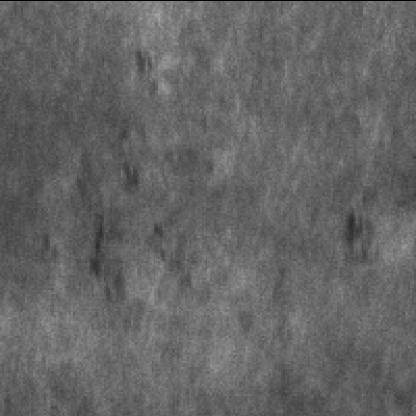rolled-in_scale: (84, 60, 200, 310), (343, 180, 385, 272)
